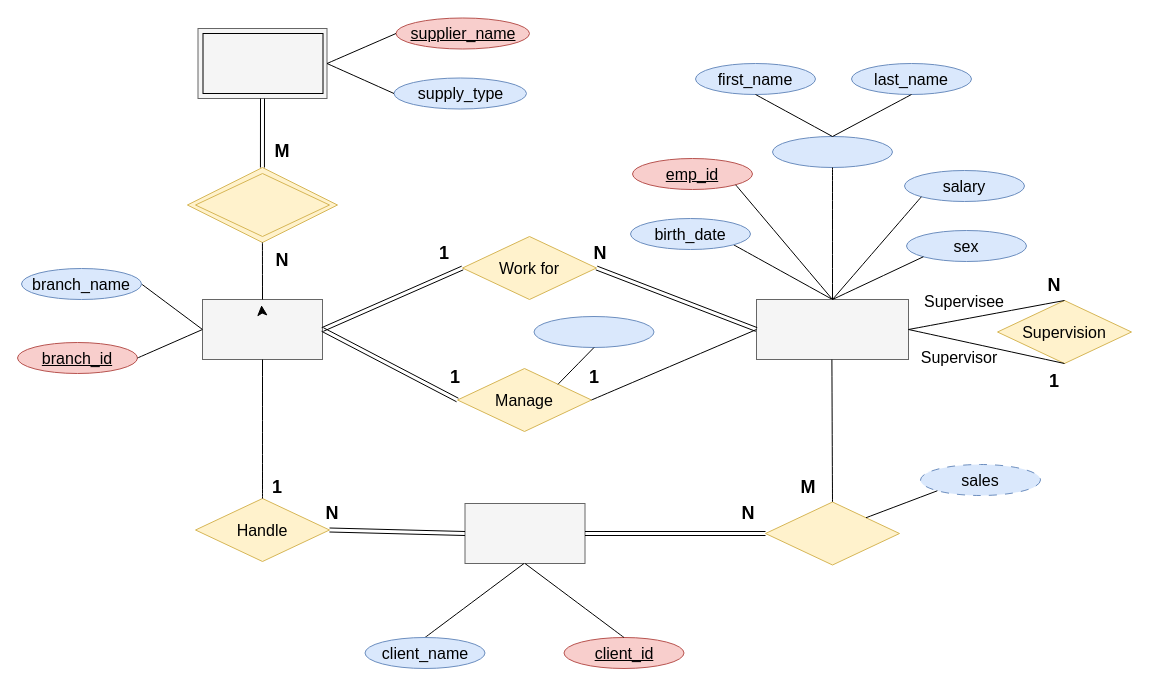
The diagram is 1149 pixels wide and 686 high, and some of its shapes have lost their labels. Each missing label, with the centre of its shape:
"Branch" goes at (x=262, y=329).
"Branch Supplier" goes at (x=262, y=63).
"Client" goes at (x=524, y=533).
"Employee" goes at (x=832, y=329).
"name" goes at (x=832, y=152).
"start_date" goes at (x=593, y=332).
"Supplies" goes at (x=262, y=204).
"Work_with" goes at (x=832, y=533).
